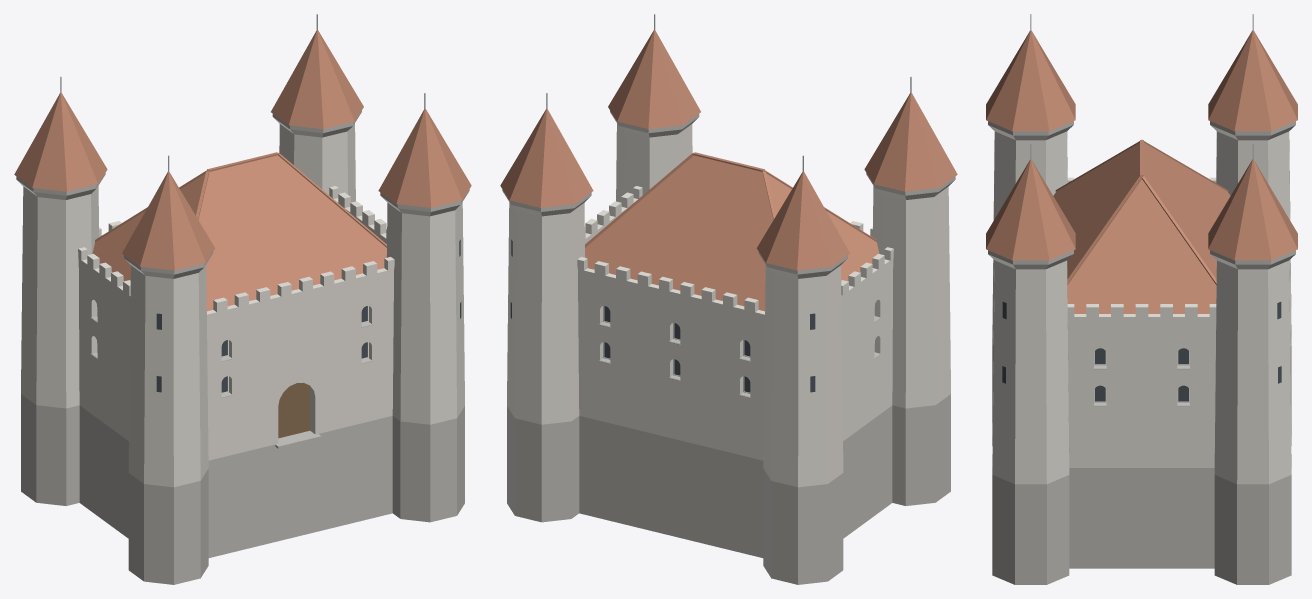
The model's file is castle_m.glb.
3 views of the same model, side by side, from view 1: azimuth 30°, elevation 25°; view 2: azimuth 150°, elevation 25°; view 3: azimuth 270°, elevation 25° (orthographic). The views are drawn at different scales.
Visible parts, largest first — view 1: castle_m; view 2: castle_m; view 3: castle_m.
Boxes of the visible parts, <box> form: castle_m: <box>14,14,471,584</box>; castle_m: <box>500,14,957,584</box>; castle_m: <box>986,14,1297,584</box>.
Size of the model in its own units: 28.47 by 33.8 by 22.47.
